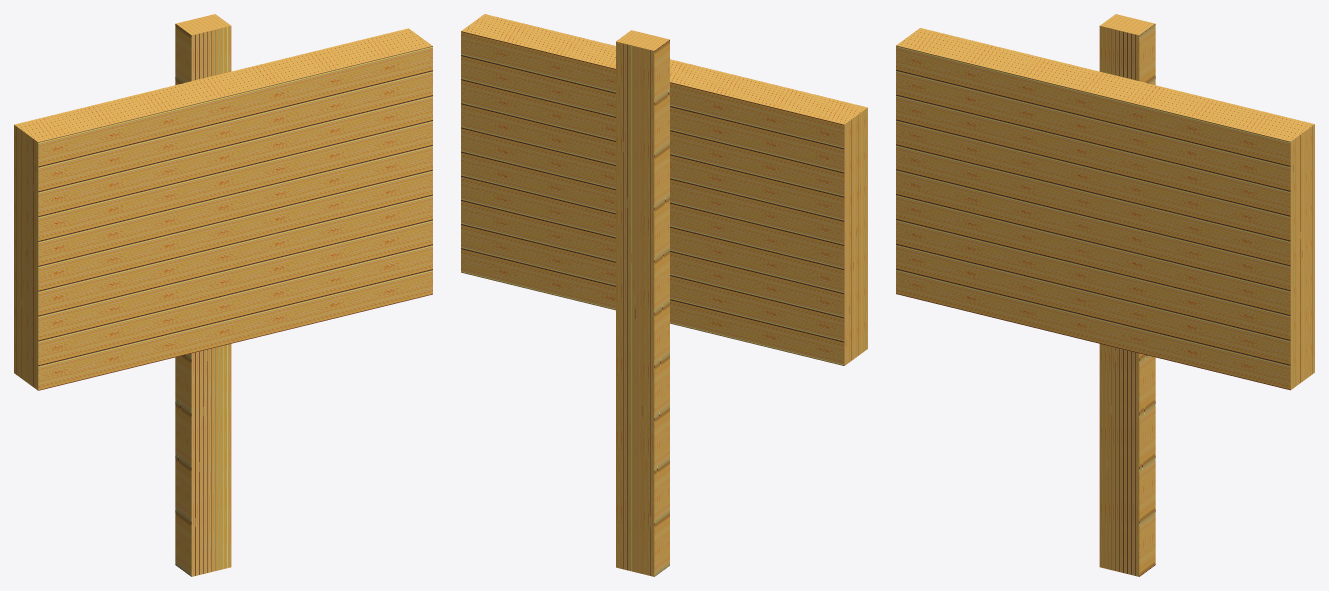
File: clearMarker.FBX
3 renders of one model, left to right at view 1: azimuth 30°, elevation 25°; view 2: azimuth 150°, elevation 25°; view 3: azimuth 330°, elevation 25°, orthographic. The views are drawn at different scales.
Visible parts, largest first — view 1: Box002, Box001; view 2: Box002, Box001; view 3: Box002, Box001.
Boxes of the visible parts, x1,y1,x2,y2 form: Box002: (14,28,432,390); Box001: (175,14,231,576); Box002: (461,14,867,365); Box001: (616,30,669,576); Box002: (896,28,1314,390); Box001: (1099,14,1155,576).
Bounding box in the file's own units: 75.48 × 98.97 × 13.67.
